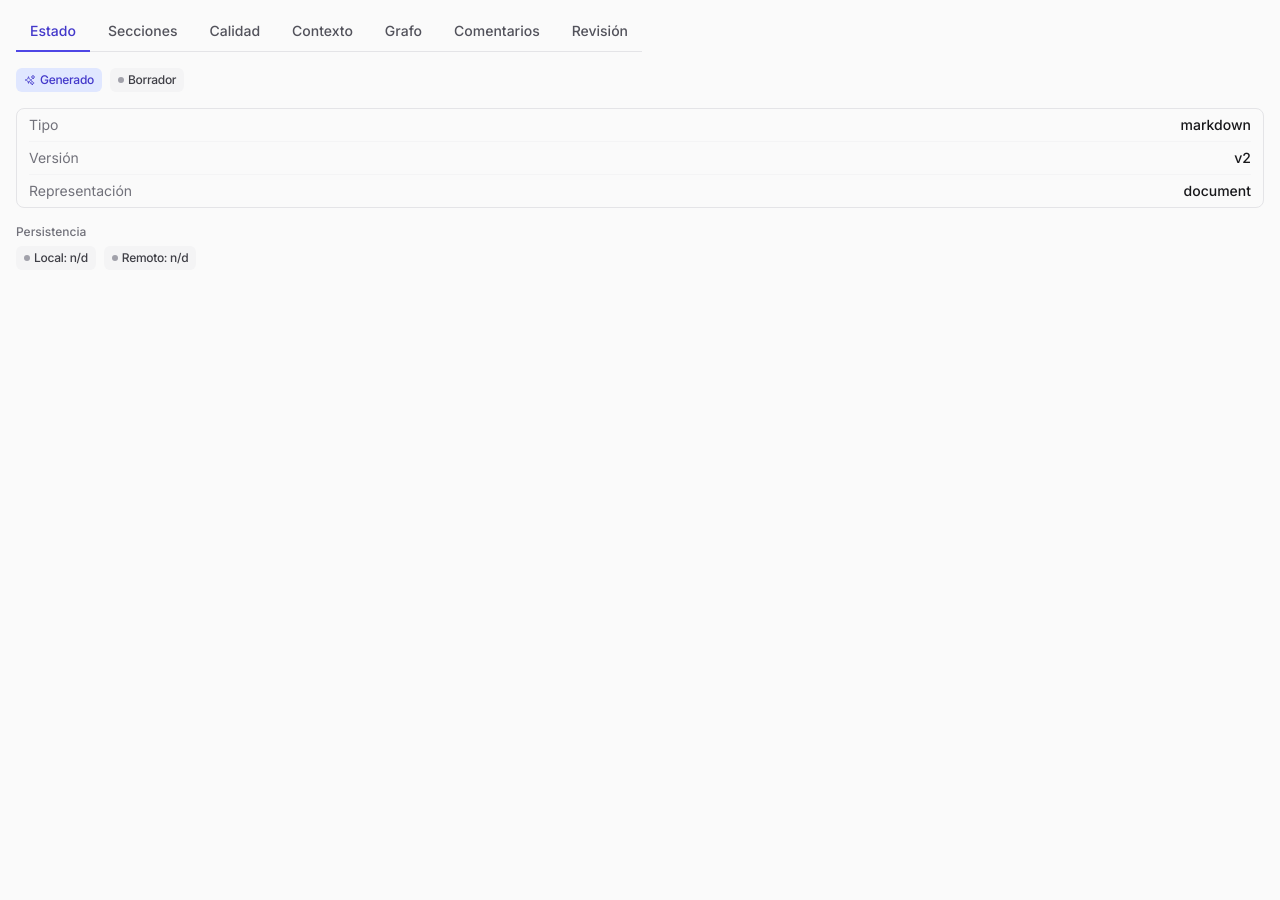
Test case: ArtifactInspectorPanel › switches to the Calidad tab and renders the formal ArtifactQualityReport
Click the tab "Calidad". click: click(235, 32)
box: [196, 12, 274, 52]
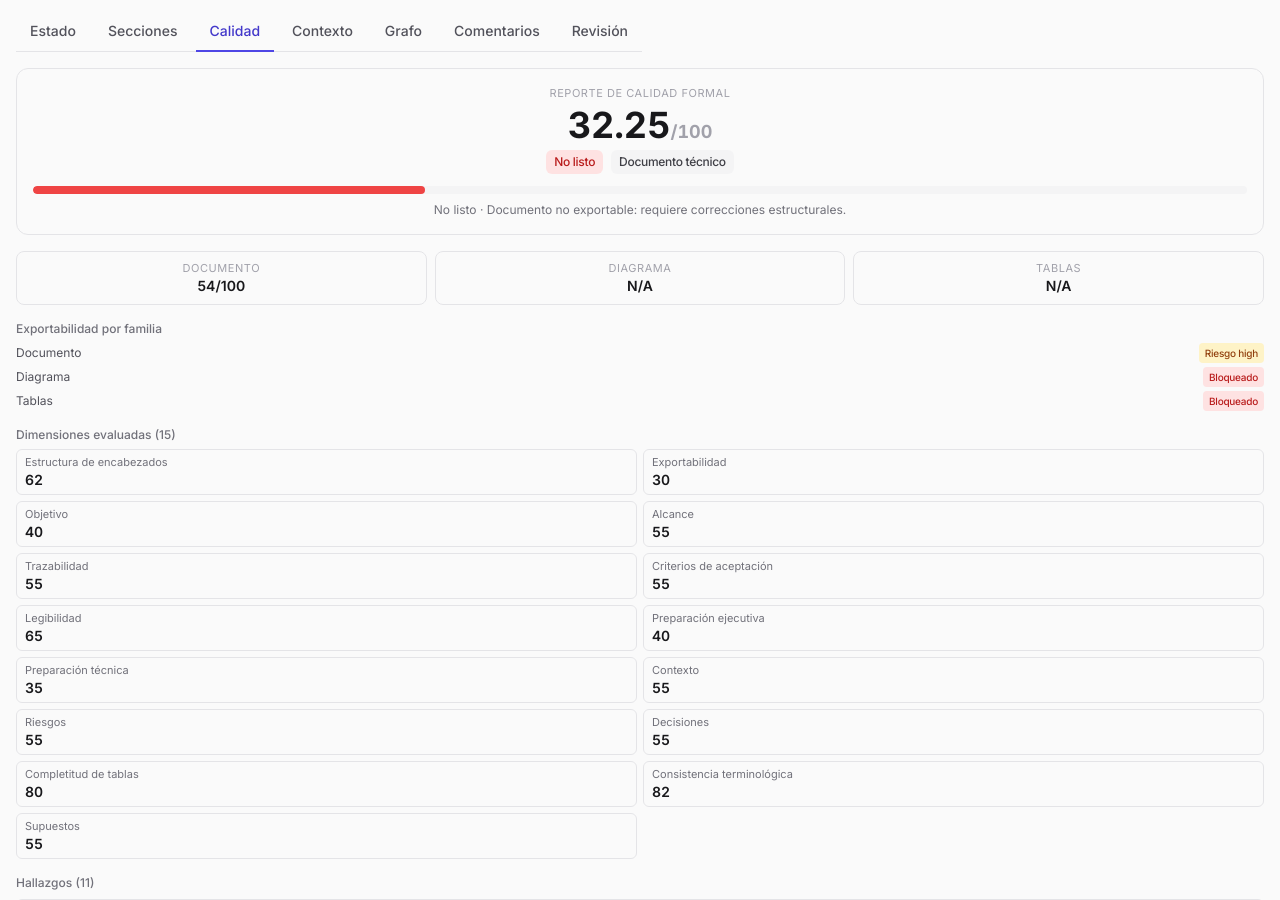
Now the text "Reporte de calidad formal" is shown, box [550, 86, 730, 100]
Now the text "Dimensiones evaluadas (15)" is shown, box [16, 427, 176, 442]
Now the text "Exportabilidad por familia" is shown, box [16, 321, 162, 336]
